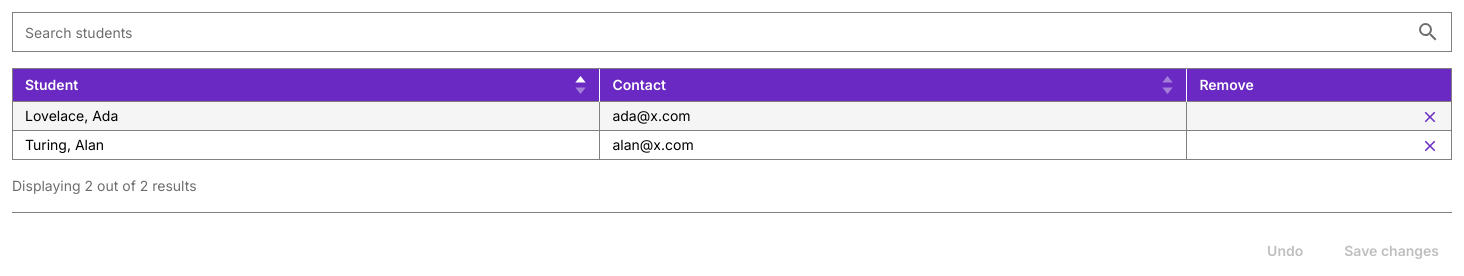
Scenario: StudentsTab › stages a removal — hiding the row and enabling Undo + Save — without persisting
Click the button named "Remove Lovelace, Ada" at (1430,116), box x1=1421 y1=106 x2=1439 y2=126
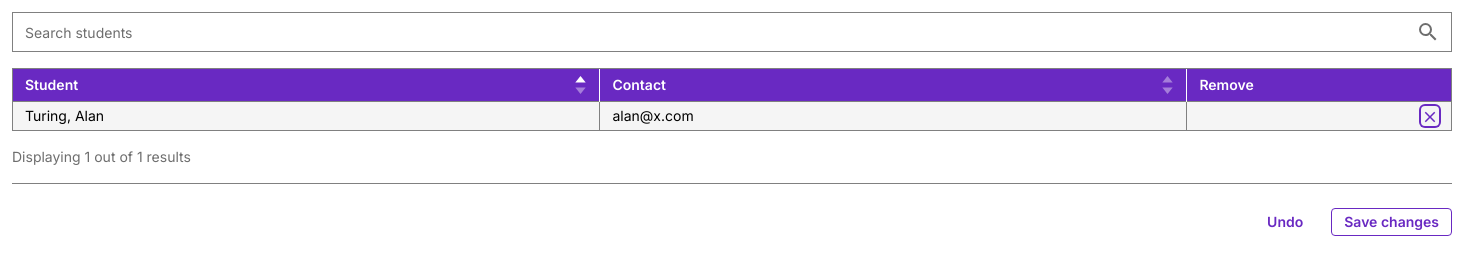
Expected: the button "Lovelace, Ada" is gone
Expected: the button "Undo" is enabled, x1=1255 y1=208 x2=1315 y2=236
Expected: the button "Save changes" is enabled, x1=1331 y1=208 x2=1452 y2=236
